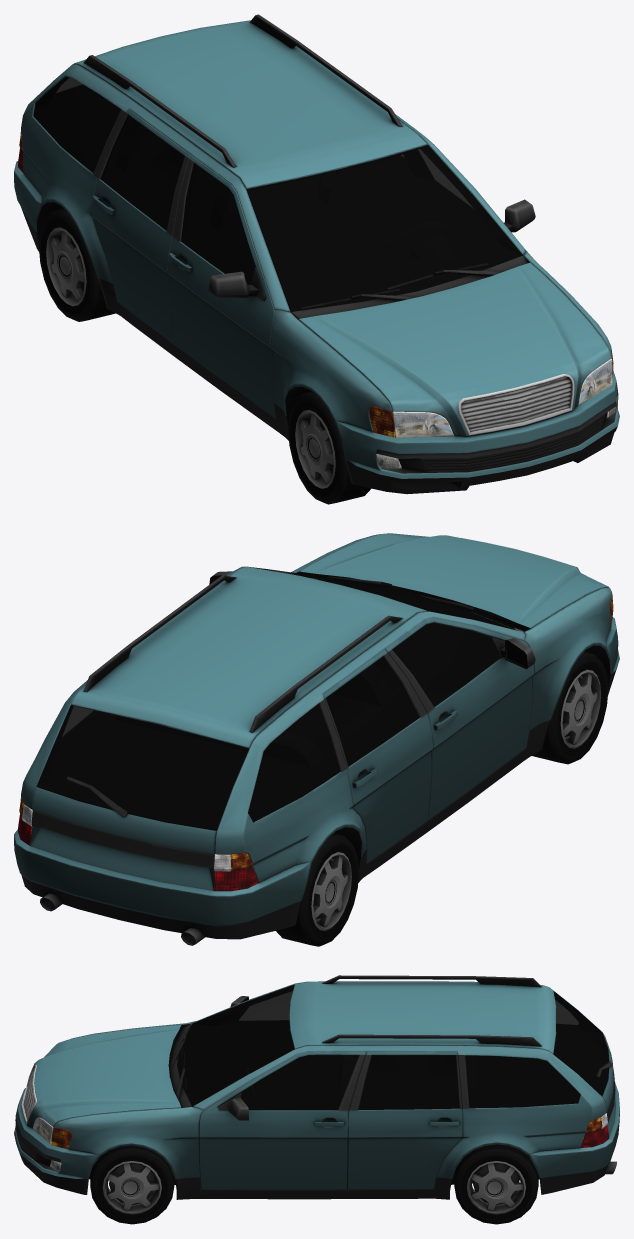
The model's file is pack_9.glb.
3 renders of one model, top to bottom at view 1: azimuth 30°, elevation 25°; view 2: azimuth 150°, elevation 25°; view 3: azimuth 270°, elevation 25°, orthographic. The views are drawn at different scales.
Visible parts, largest first — view 1: pack_9; view 2: pack_9; view 3: pack_9.
Part boxes in pixels (<box>): pack_9: <box>14,14,619,504</box>; pack_9: <box>14,533,619,946</box>; pack_9: <box>14,975,619,1224</box>.
Size of the model in its own units: 1.96 by 1.39 by 4.4.
4 materials, 3 textured.
